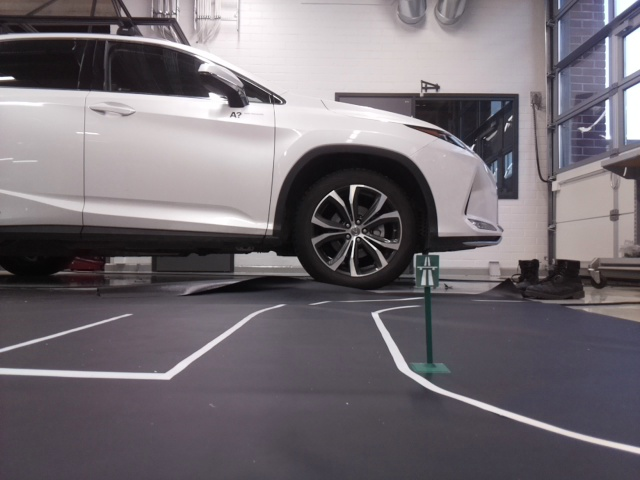HighwayEntrance: (416, 253, 438, 286)
